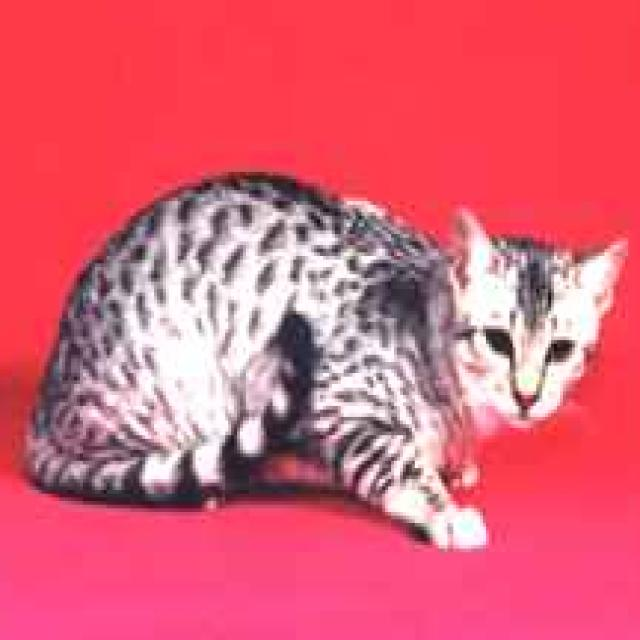Egyptian Mau: (21, 165, 634, 558)
